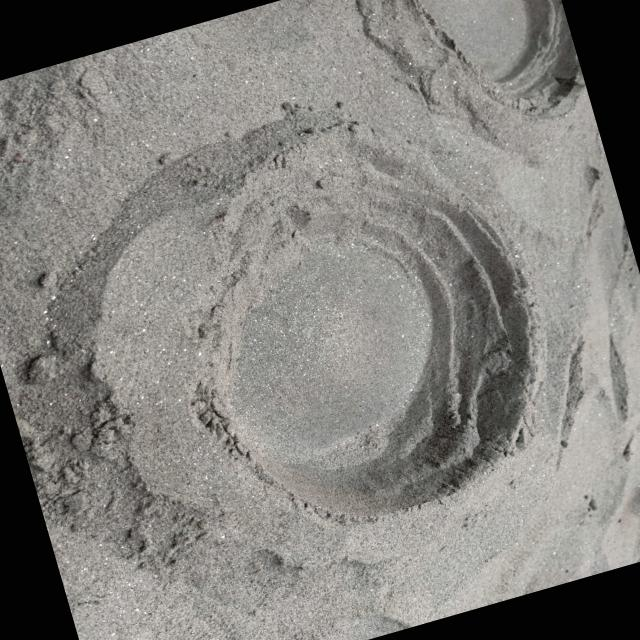C20: (207, 206, 519, 523), (416, 0, 580, 105)
